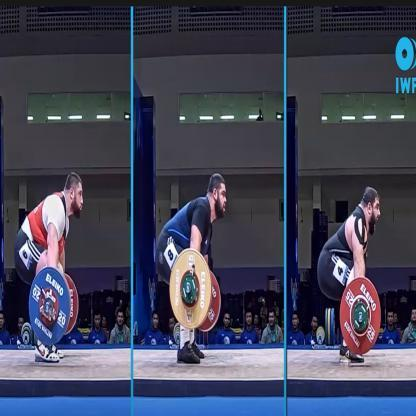barbell: (166, 247, 223, 334), (28, 266, 79, 348), (338, 275, 382, 357)
